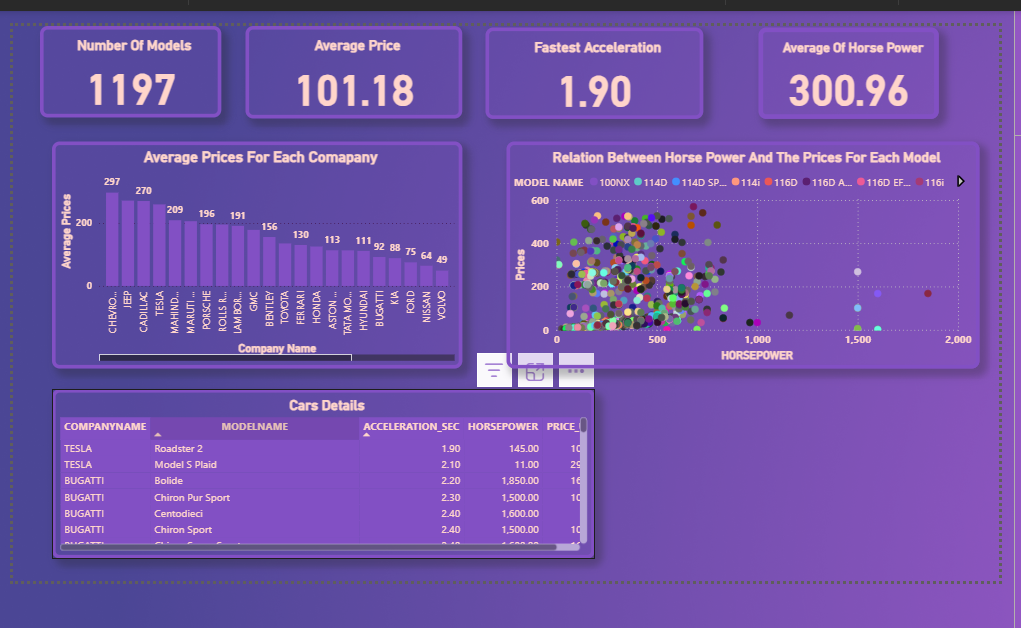

This screenshot's page, from the dashboard's own definition file:
{"tool":"powerbi","page":{"name":"Page 1","canvas":[1280,720],"ordinal":0},"visuals":[{"type":"clusteredColumnChart","title":"Average Prices For Each Comapany","fields":{"Category":["DIM_COMPANY.COMPANYNAME"],"Y":["Avg(FACT_CAR.PRICE_USD)"]},"box":[51,149.3,532.9,294.8],"z":0},{"type":"tableEx","title":"Cars Details ","fields":{"Values":["DIM_COMPANY.COMPANYNAME","DIM_MODEL.MODELNAME","FACT_CAR.ACCELERATION_SEC","FACT_CAR.HORSEPOWER","FACT_CAR.PRICE_USD"]},"box":[50.6,471.2,704.9,220],"z":1000},{"type":"scatterChart","title":"Relation Between Horse Power And The Prices For Each Model","fields":{"Y":["FACT_CAR.PRICE_USD"],"X":["FACT_CAR.HORSEPOWER"],"Series":["DIM_MODEL.MODELNAME"]},"box":[640.6,149.3,614.2,294.8],"z":2000},{"type":"card","title":"Number Of Models","fields":{"Values":["Count(FACT_CAR.MODEL_SK)"]},"box":[35.1,0,235.6,118.8],"z":3000},{"type":"card","title":"Average Price ","fields":{"Values":["Avg(FACT_CAR.PRICE_USD)"]},"box":[302.4,0,281.6,120],"z":4000},{"type":"card","title":"Average Of Horse Power","fields":{"Values":["Avg(FACT_CAR.HORSEPOWER)"]},"box":[967.8,1.9,233.7,118.8],"z":5000},{"type":"card","title":"Fastest Acceleration","fields":{"Values":["Min(FACT_CAR.ACCELERATION_SEC)"]},"box":[613.4,1.9,282.4,118.8],"z":6000}]}

Visuals, with their boxes on the page's 1280x720 design canvas (x1, y1, x2, y2). These are canvas units, not pixel positions in the 1021x628 screenshot, which may show the page scaled, cropped or inside an application window:
"Average Prices For Each Comapany" clusteredColumnChart: bbox(51, 149, 584, 444)
"Cars Details " tableEx: bbox(51, 471, 756, 691)
"Relation Between Horse Power And The Prices For Each Model" scatterChart: bbox(641, 149, 1255, 444)
"Number Of Models" card: bbox(35, 0, 271, 119)
"Average Price " card: bbox(302, 0, 584, 120)
"Average Of Horse Power" card: bbox(968, 2, 1202, 121)
"Fastest Acceleration" card: bbox(613, 2, 896, 121)
